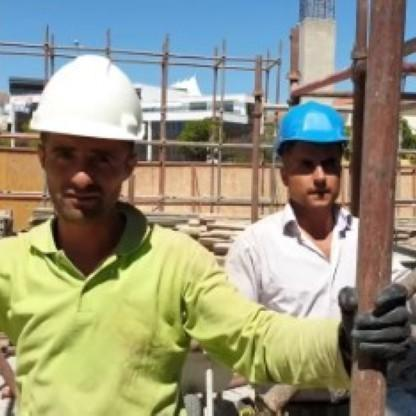helmet: (21, 69, 151, 240), (267, 113, 360, 225)
